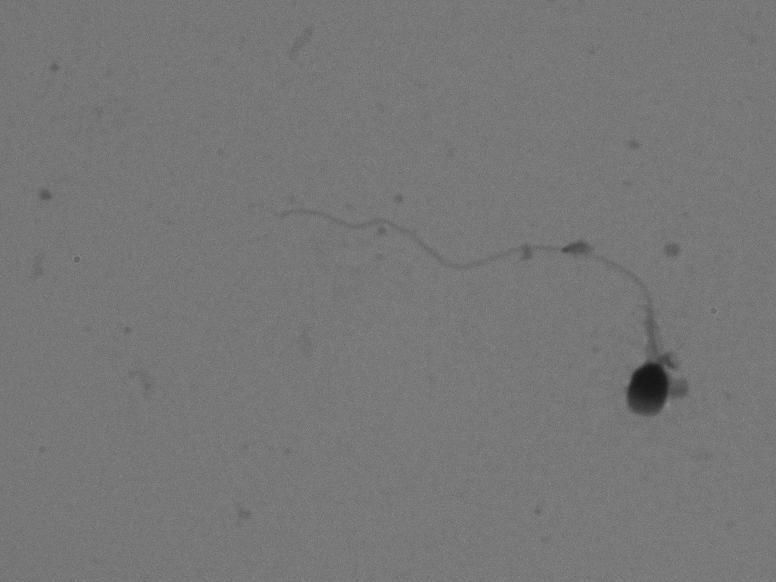Abnormal: (231, 190, 706, 424)
